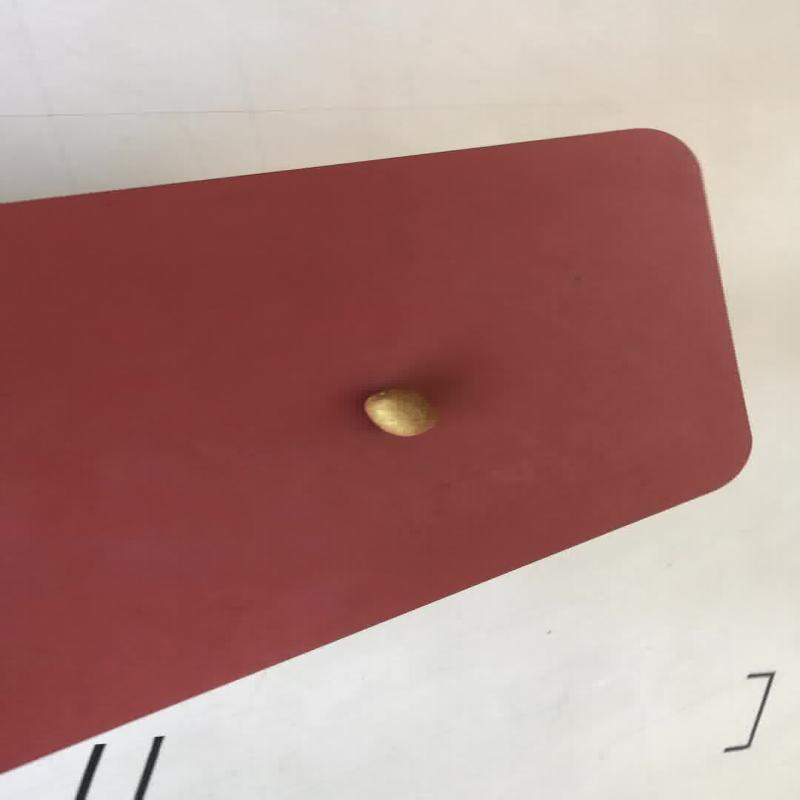kiwi: (360, 387, 436, 436)
